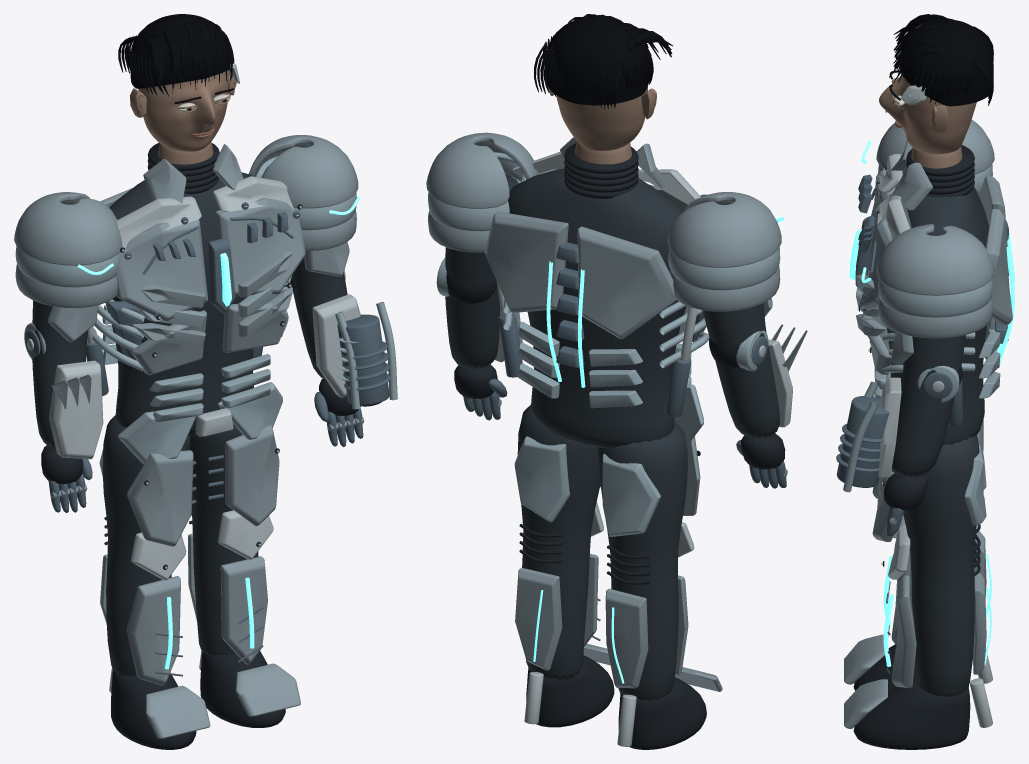
The model's file is qianxing.glb.
3 renders of one model, left to right at view 1: azimuth 30°, elevation 25°; view 2: azimuth 150°, elevation 25°; view 3: azimuth 270°, elevation 25°, orthographic. The views are drawn at different scales.
Parts seen in each view (by area): view 1: body / 20 / satin alloy broad planes, body / 10 / flexible charcoal undersuit, body / 23 / titanium bevel, leftArm / 20 / satin alloy broad planes, body / 21 / brushed alloy trim, rightArm / 20 / satin alloy broad planes, head / 04 / blue-black hair, body / 11 / articulated joint seals, head / 01 / warm neutral synthetic skin, body / 22 / recessed gunmetal, rightArm / 22 / recessed gunmetal, leftArm / 21 / brushed alloy trim (+10 smaller); view 2: body / 10 / flexible charcoal undersuit, body / 20 / satin alloy broad planes, body / 23 / titanium bevel, leftArm / 20 / satin alloy broad planes, head / 04 / blue-black hair, body / 11 / articulated joint seals, rightArm / 20 / satin alloy broad planes, leftArm / 10 / flexible charcoal undersuit, rightArm / 10 / flexible charcoal undersuit, head / 01 / warm neutral synthetic skin, body / 21 / brushed alloy trim, body / 22 / recessed gunmetal (+9 smaller); view 3: body / 10 / flexible charcoal undersuit, body / 20 / satin alloy broad planes, rightArm / 20 / satin alloy broad planes, head / 04 / blue-black hair, body / 11 / articulated joint seals, rightArm / 10 / flexible charcoal undersuit, head / 01 / warm neutral synthetic skin, rightArm / 23 / titanium bevel, rightArm / 22 / recessed gunmetal, body / 23 / titanium bevel, body / 21 / brushed alloy trim, body / 22 / recessed gunmetal (+6 smaller).
Boxes of the visible parts, x1,y1,x2,y2 form: body / 20 / satin alloy broad planes: (100,144,305,738); body / 10 / flexible charcoal undersuit: (102,172,258,675); body / 23 / titanium bevel: (92,276,291,477); leftArm / 20 / satin alloy broad planes: (14,192,122,498); body / 21 / brushed alloy trim: (87,176,301,692); rightArm / 20 / satin alloy broad planes: (249,135,364,431); head / 04 / blue-black hair: (118,14,234,103); body / 11 / articulated joint seals: (104,204,302,749); head / 01 / warm neutral synthetic skin: (130,69,236,182); body / 22 / recessed gunmetal: (86,202,300,676); rightArm / 22 / recessed gunmetal: (314,314,390,447); leftArm / 21 / brushed alloy trim: (27,338,103,459); body / 10 / flexible charcoal undersuit: (508,169,687,700); body / 20 / satin alloy broad planes: (485,137,722,691); body / 23 / titanium bevel: (503,299,709,536); leftArm / 20 / satin alloy broad planes: (667,192,807,476); head / 04 / blue-black hair: (534,14,672,108); body / 11 / articulated joint seals: (519,450,706,749); rightArm / 20 / satin alloy broad planes: (426,132,538,406); leftArm / 10 / flexible charcoal undersuit: (702,303,779,438); rightArm / 10 / flexible charcoal undersuit: (445,174,518,368); head / 01 / warm neutral synthetic skin: (546,81,656,164); body / 21 / brushed alloy trim: (496,151,700,746); body / 22 / recessed gunmetal: (498,184,707,640); body / 10 / flexible charcoal undersuit: (887,186,988,696); body / 20 / satin alloy broad planes: (844,140,1012,728); rightArm / 20 / satin alloy broad planes: (876,224,994,524); head / 04 / blue-black hair: (889,14,993,106); body / 11 / articulated joint seals: (853,166,980,749); rightArm / 10 / flexible charcoal undersuit: (891,335,965,476); head / 01 / warm neutral synthetic skin: (879,75,976,168); rightArm / 23 / titanium bevel: (843,279,992,492); rightArm / 22 / recessed gunmetal: (836,372,952,536); body / 23 / titanium bevel: (856,270,1000,525); body / 21 / brushed alloy trim: (857,154,992,727); body / 22 / recessed gunmetal: (855,174,1008,673).
Size of the model in its own units: 1.21 by 2.4 by 0.5624.
